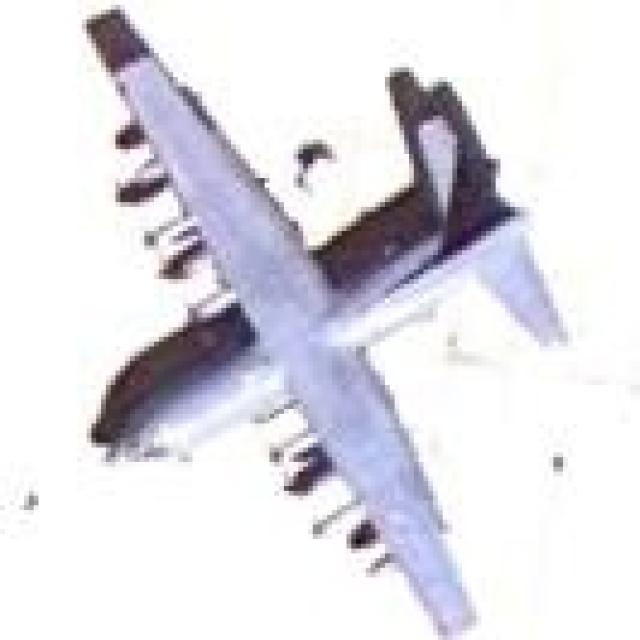C-130_TopDown: (56, 4, 579, 632)
